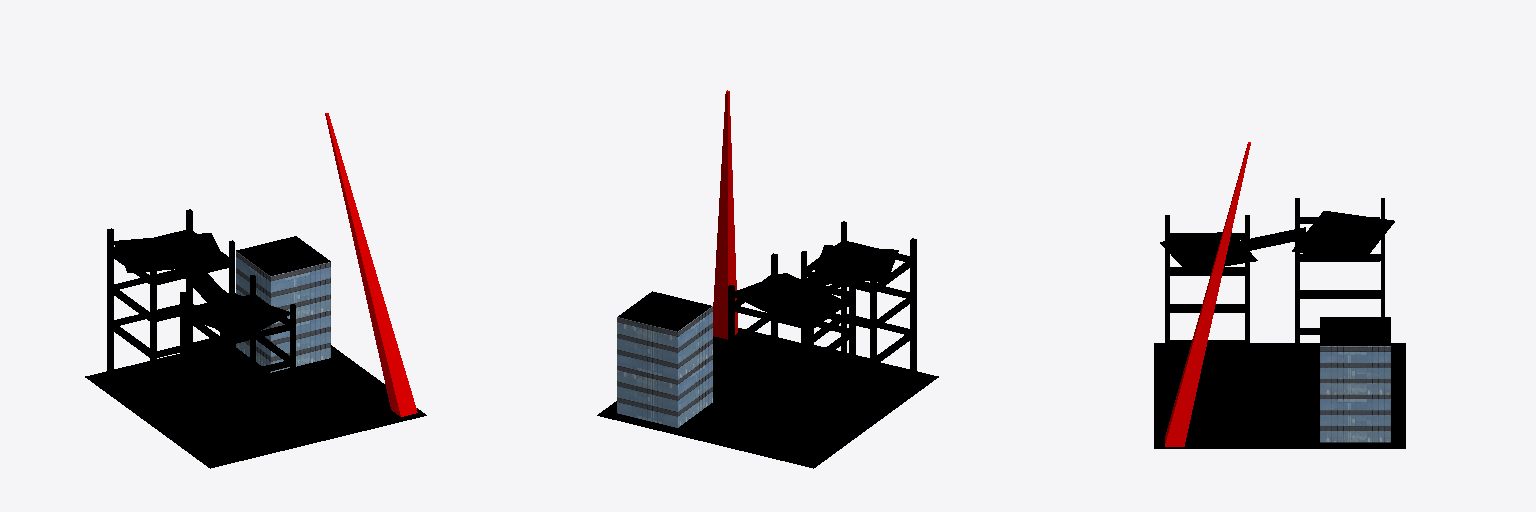
3 views of the same model, side by side, from view 1: azimuth 30°, elevation 25°; view 2: azimuth 150°, elevation 25°; view 3: azimuth 270°, elevation 25° (orthographic).
Visible parts, largest first — view 1: pPlane1 World group1, World group1 pCube4, World group1 pCube5, World group1 pCube3; view 2: pPlane1 World group1, World group1 pCube4, World group1 pCube5; view 3: pPlane1 World group1, World group1 pCube4, World group1 pCube5, World group1 pCube3.
Boxes of the visible parts, box(x1,y1,x2,y2) form: pPlane1 World group1: box(85, 113, 426, 468); World group1 pCube4: box(114, 233, 225, 272); World group1 pCube5: box(186, 293, 289, 338); World group1 pCube3: box(176, 262, 234, 309); pPlane1 World group1: box(597, 90, 938, 468); World group1 pCube4: box(735, 273, 851, 325); World group1 pCube5: box(813, 245, 898, 281); pPlane1 World group1: box(1154, 142, 1405, 448); World group1 pCube4: box(1292, 211, 1394, 261); World group1 pCube5: box(1160, 232, 1257, 272); World group1 pCube3: box(1232, 227, 1305, 253).
Size of the model in its own units: 204 by 251 by 204.
Materials: 6 (1 with a texture image).